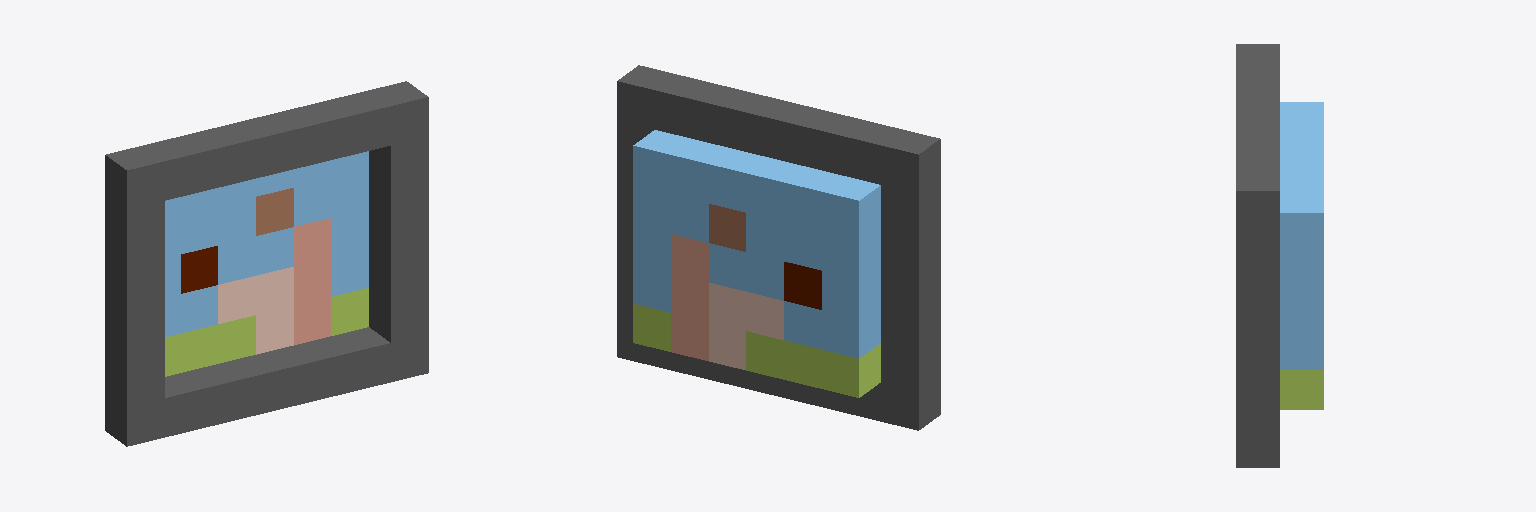
The picture shows the model from 3 angles: view 1: azimuth 30°, elevation 25°; view 2: azimuth 150°, elevation 25°; view 3: azimuth 270°, elevation 25°; orthographic projection.
Parts seen in each view (by area): view 1: painting-1; view 2: painting-1; view 3: painting-1.
Part boxes in pixels (x1,y1,x2,y2): painting-1: (105, 81, 428, 446); painting-1: (617, 65, 940, 430); painting-1: (1236, 44, 1323, 467).
Bounding box in the file's own units: 8 × 7 × 2.
1 materials, 1 textured.